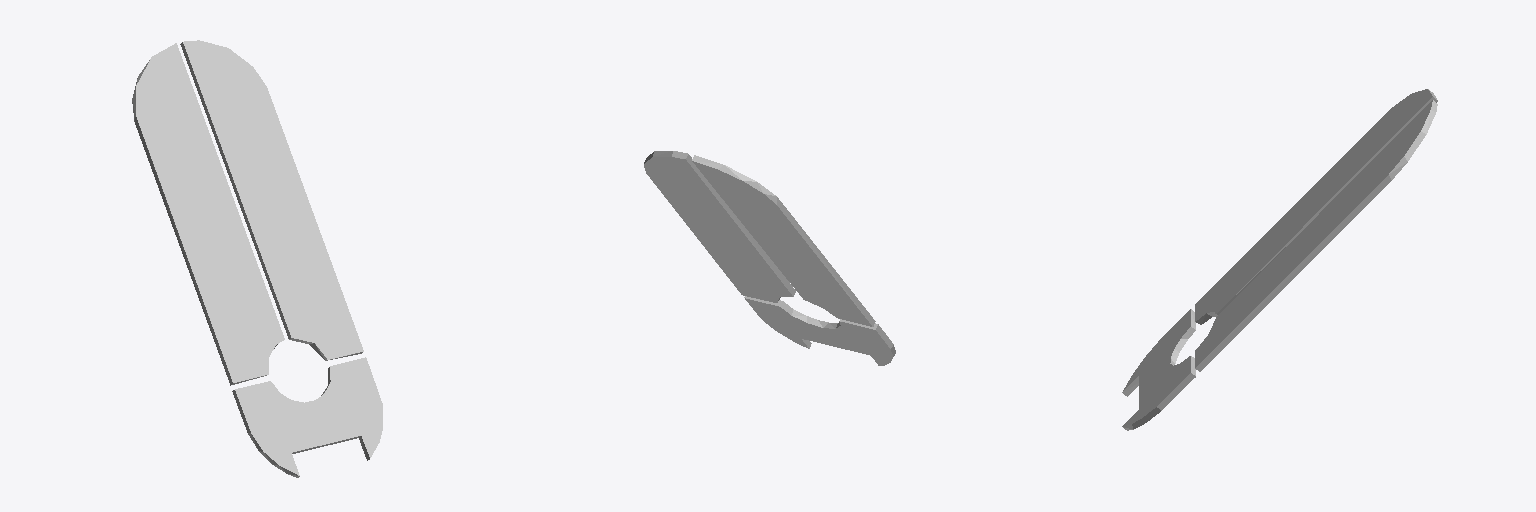
Rendered from transparent.obj.
3 renders of one model, left to right at view 1: azimuth 30°, elevation 25°; view 2: azimuth 150°, elevation 25°; view 3: azimuth 270°, elevation 25°, orthographic.
Visible parts, largest first — view 1: Transparent_bit_of_plate_3_Transparent_bit_of_plate_3.001; view 2: Transparent_bit_of_plate_3_Transparent_bit_of_plate_3.001; view 3: Transparent_bit_of_plate_3_Transparent_bit_of_plate_3.001.
Boxes of the visible parts, x1=… form: Transparent_bit_of_plate_3_Transparent_bit_of_plate_3.001: x1=132, y1=40, x2=382, y2=477; Transparent_bit_of_plate_3_Transparent_bit_of_plate_3.001: x1=644, y1=151, x2=895, y2=365; Transparent_bit_of_plate_3_Transparent_bit_of_plate_3.001: x1=1122, y1=89, x2=1437, y2=430.
Size of the model in its own units: 0.6528 by 1.5 by 1.36.